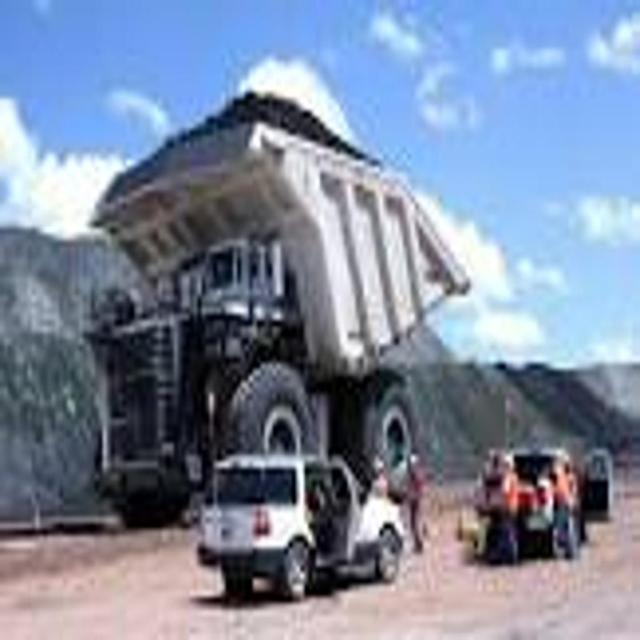dump_truck: (95, 71, 469, 499)
